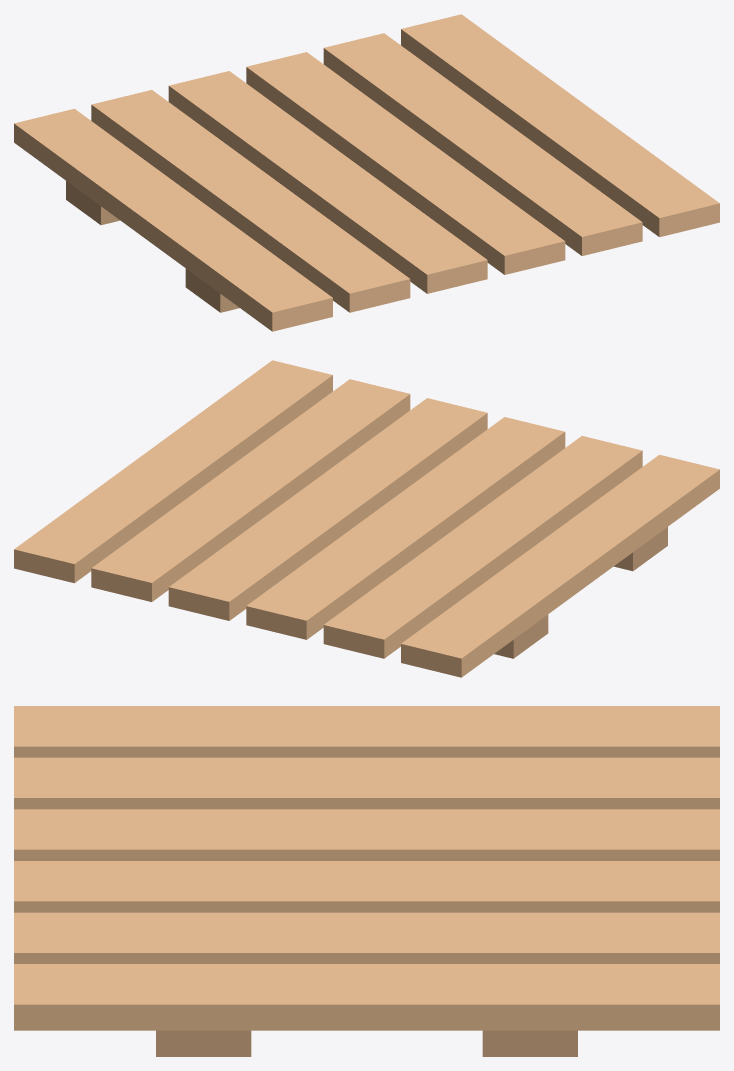
3 views of the same model, one above another, from view 1: azimuth 30°, elevation 25°; view 2: azimuth 150°, elevation 25°; view 3: azimuth 270°, elevation 25° (orthographic). The views are drawn at different scales.
Visible parts, largest first — view 1: floor; view 2: floor; view 3: floor.
Part boxes in pixels (box(x1,y1,x2,y2)): floor: box(14, 14, 719, 331); floor: box(14, 360, 719, 677); floor: box(14, 706, 719, 1056).
Bounding box in the file's own units: 0.4893 × 0.04 × 0.4893.
